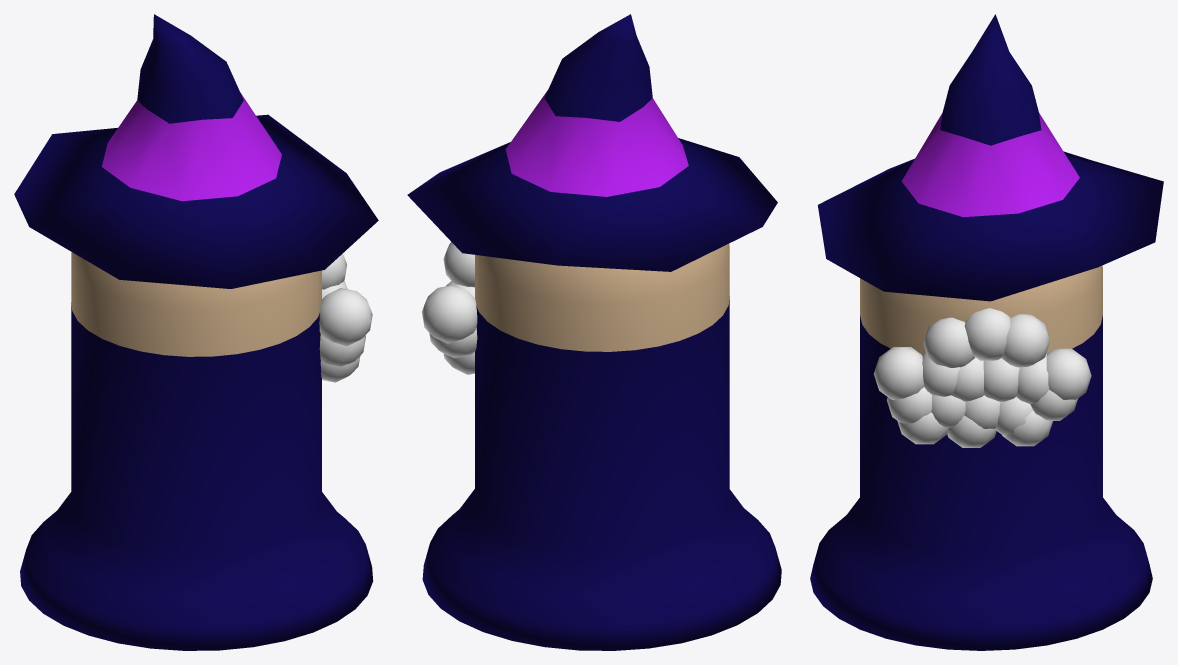
Rendered from wiardled.fbx.
3 views of the same model, side by side, from view 1: azimuth 30°, elevation 25°; view 2: azimuth 150°, elevation 25°; view 3: azimuth 270°, elevation 25° (orthographic). The views are drawn at different scales.
Visible parts, largest first — view 1: Sphere, Icosphere, Icosphere.013, Icosphere.012, Icosphere.004, Icosphere.014; view 2: Sphere, Icosphere, Icosphere.018, Icosphere.003, Icosphere.017; view 3: Sphere, Icosphere, Icosphere.013, Icosphere.003, Icosphere.004, Icosphere.001, Icosphere.018, Icosphere.007, Icosphere.008, Icosphere.005, Icosphere.012, Icosphere.006 (+7 smaller).
Boxes of the visible parts, x1,y1,x2,y2 form: Sphere: (20, 252, 373, 650); Icosphere: (14, 14, 378, 288); Icosphere.013: (319, 288, 372, 346); Icosphere.012: (319, 334, 365, 366); Icosphere.004: (322, 253, 346, 289); Icosphere.014: (320, 356, 360, 382); Sphere: (422, 243, 781, 650); Icosphere: (407, 14, 777, 271); Icosphere.018: (422, 284, 477, 343); Icosphere.003: (443, 242, 474, 287); Icosphere.017: (429, 327, 477, 358); Sphere: (810, 265, 1152, 650); Icosphere: (817, 14, 1163, 301); Icosphere.013: (874, 347, 923, 399); Icosphere.003: (1001, 314, 1050, 367); Icosphere.004: (923, 317, 975, 367); Icosphere.001: (964, 308, 1010, 360); Icosphere.018: (1046, 348, 1091, 399); Icosphere.007: (983, 358, 1019, 401); Icosphere.008: (1016, 353, 1049, 403); Icosphere.005: (922, 352, 960, 396); Icosphere.012: (886, 387, 932, 423); Icosphere.006: (952, 357, 984, 401).
Size of the model in its own units: 292 by 500 by 291.
